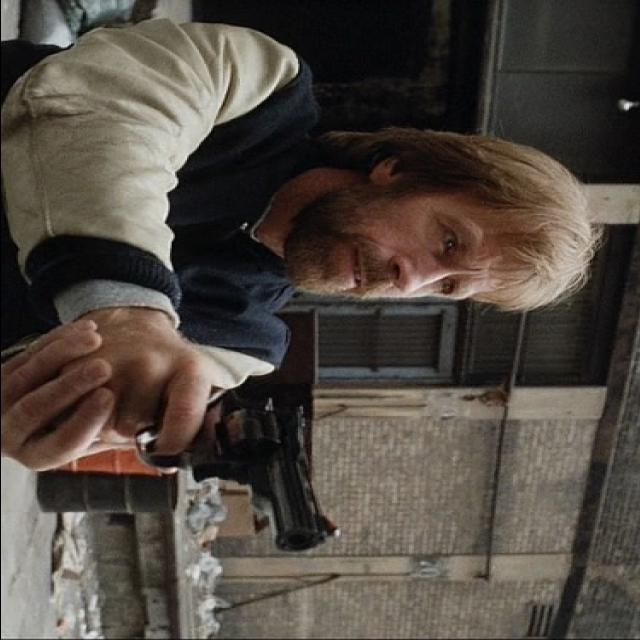weapons: (40, 352, 358, 572)
